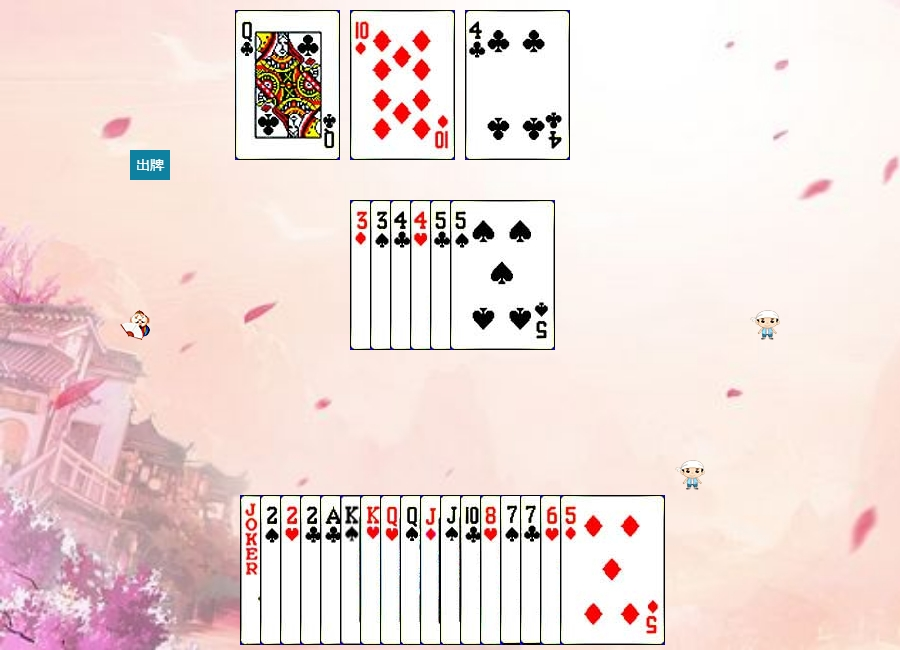10~1: (350, 10, 455, 160)
10~2: (460, 495, 565, 645)
11~1: (420, 495, 525, 645)
11~4: (440, 495, 545, 645)
12~2: (235, 10, 340, 160)
12~3: (380, 495, 485, 645)
12~4: (400, 495, 505, 645)
13~3: (360, 495, 465, 645)
13~4: (340, 495, 445, 645)
14~2: (320, 495, 425, 645)
15~2: (300, 495, 405, 645)
15~3: (280, 495, 385, 645)
15~4: (260, 495, 365, 645)
18~4: (240, 495, 345, 645)
3~1: (350, 200, 455, 350)
3~4: (370, 200, 475, 350)
4~2: (465, 10, 570, 160), (390, 200, 495, 350)
4~3: (410, 200, 515, 350)
5~1: (560, 495, 665, 645)
5~2: (430, 200, 535, 350)
5~4: (450, 200, 555, 350)
6~3: (540, 495, 645, 645)
7~2: (520, 495, 625, 645)
7~4: (500, 495, 605, 645)
8~3: (480, 495, 585, 645)
